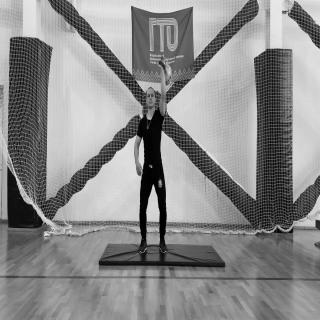girya: (160, 60, 174, 87)
